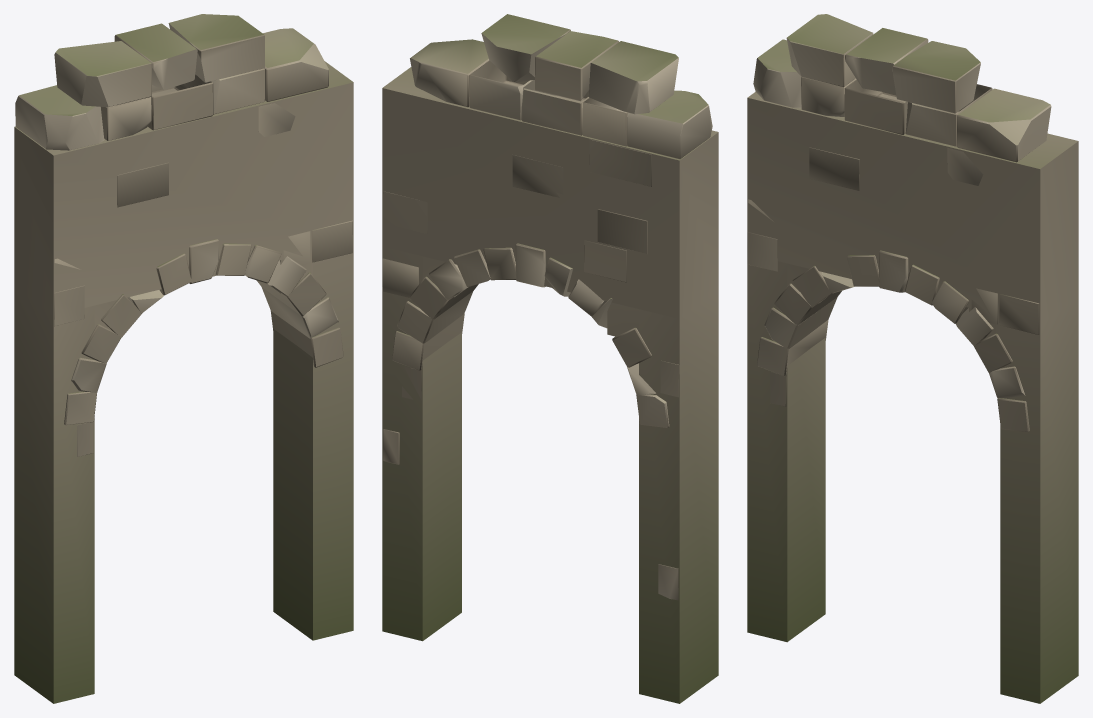
The model's file is theatre_stage_mid.glb.
The picture shows the model from 3 angles, left to right: view 1: azimuth 30°, elevation 25°; view 2: azimuth 150°, elevation 25°; view 3: azimuth 330°, elevation 25°; orthographic projection. The views are drawn at different scales.
Visible parts, largest first — view 1: theatre_stage_mid_far, theatre_stage_mid; view 2: theatre_stage_mid_far, theatre_stage_mid; view 3: theatre_stage_mid_far, theatre_stage_mid.
Boxes of the visible parts, x1,y1,x2,y2 form: theatre_stage_mid_far: [14, 61, 353, 703]; theatre_stage_mid: [15, 14, 352, 456]; theatre_stage_mid_far: [382, 67, 718, 703]; theatre_stage_mid: [382, 14, 712, 600]; theatre_stage_mid_far: [747, 92, 1078, 703]; theatre_stage_mid: [747, 14, 1051, 431].
Size of the model in its own units: 22 by 43.2 by 5.32.
